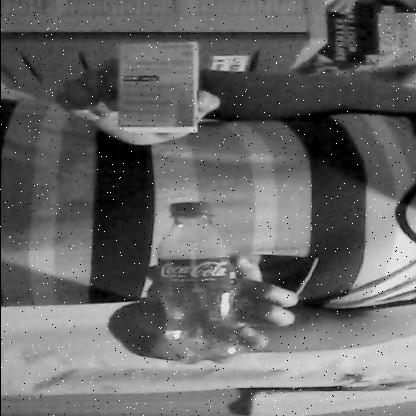Plastic Bottle: (141, 201, 248, 372)
